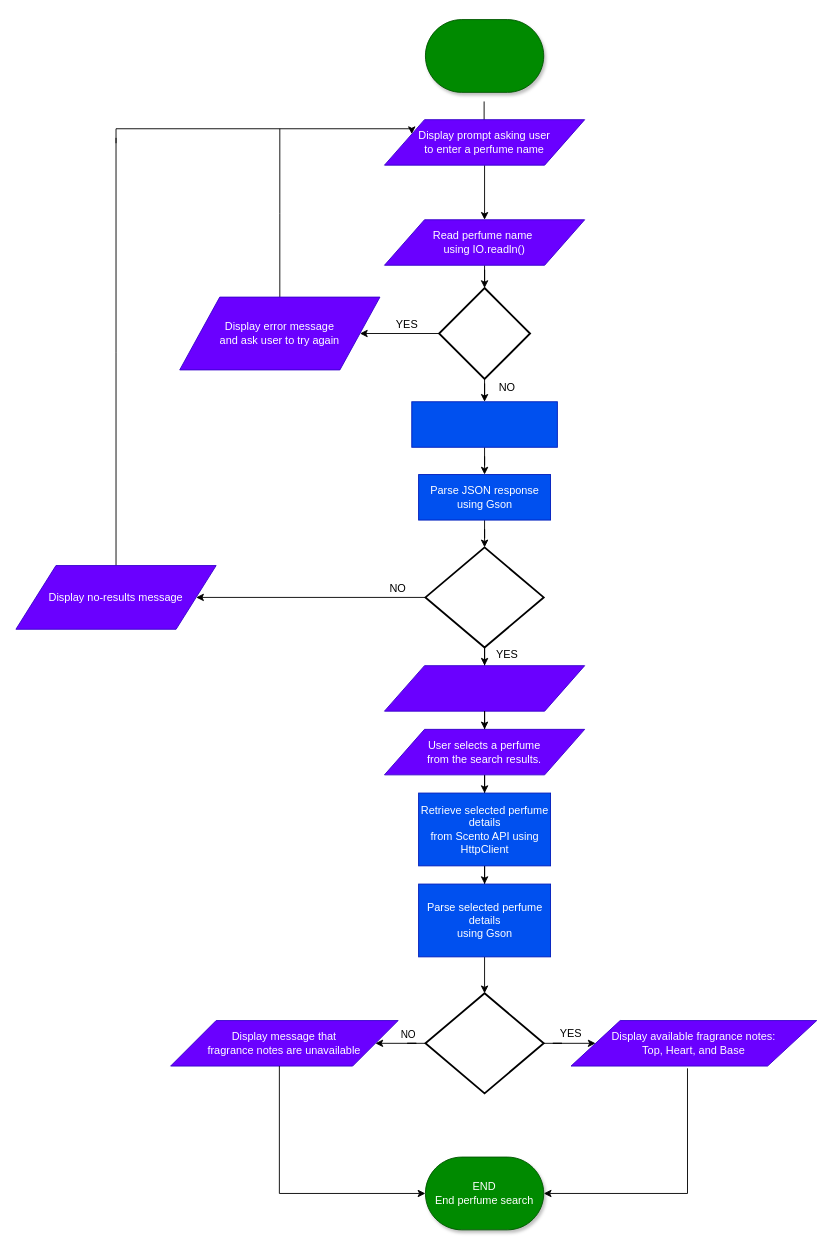
Image size: 833x1252. Some labels were removed from this diagram. The shapes that lost their labels are listed below. From the top down, each one's centre as x and y in pixels, then its label:
At [485,57]: "START Start ScentSavvy (main())".
At [484,333]: "Is the search input empty?".
At [484,424]: "Send GET request to Scento API using Java HttpClient".
At [484,597]: "Were any matching perfumes found?".
At [484,688]: "Display up to five matching perfume results".
At [484,1043]: "Are fragrance notes available?".
